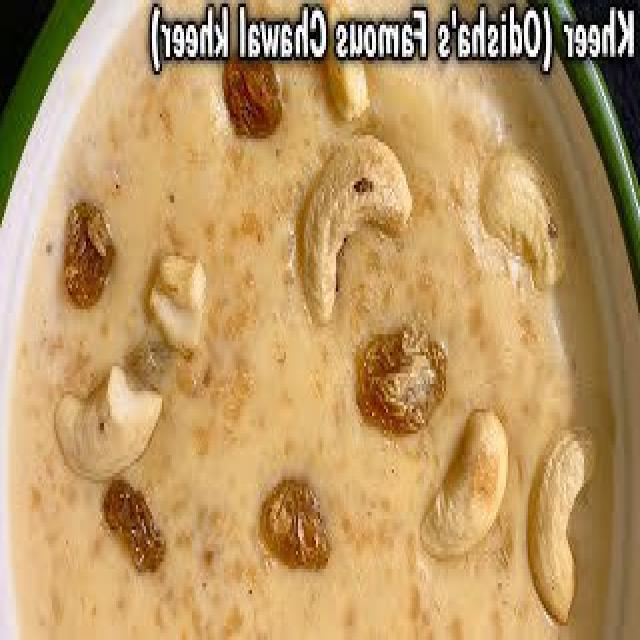Kheer: (12, 0, 606, 640)
